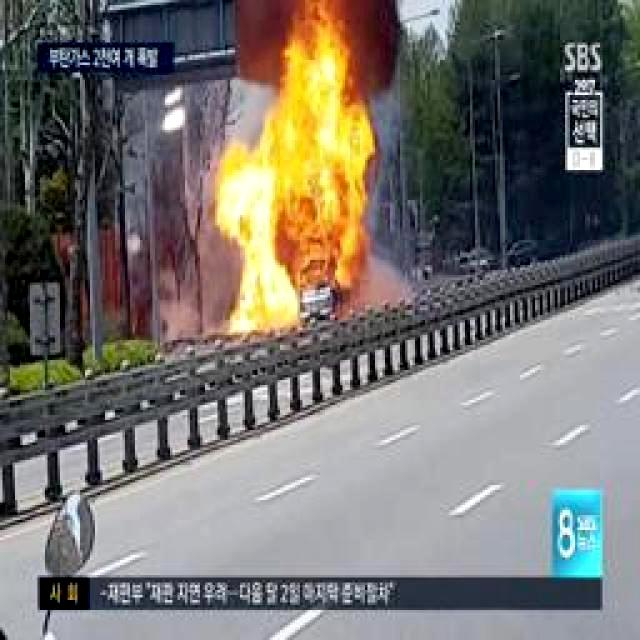fire: (218, 126, 366, 330), (275, 24, 355, 116)
